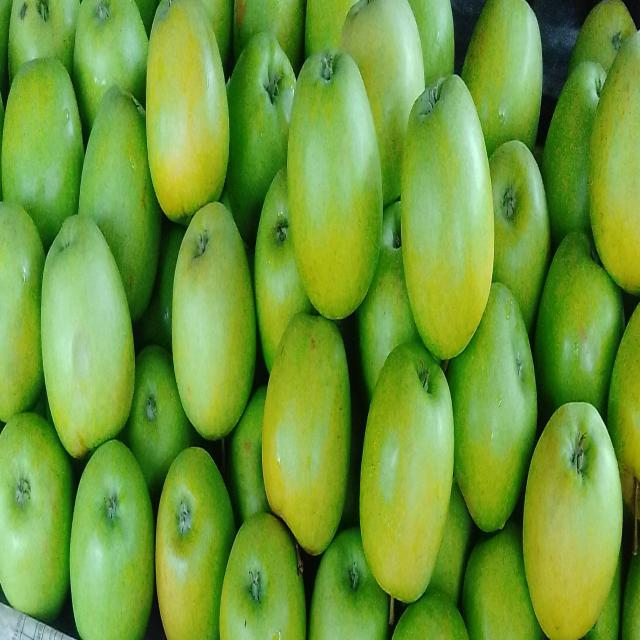Fresh Apple: (400, 90, 507, 347), (25, 222, 137, 453), (257, 318, 363, 552), (297, 63, 383, 332), (133, 10, 245, 215), (164, 202, 258, 445), (523, 415, 622, 628), (380, 360, 455, 625), (154, 446, 243, 640), (71, 456, 156, 640)
